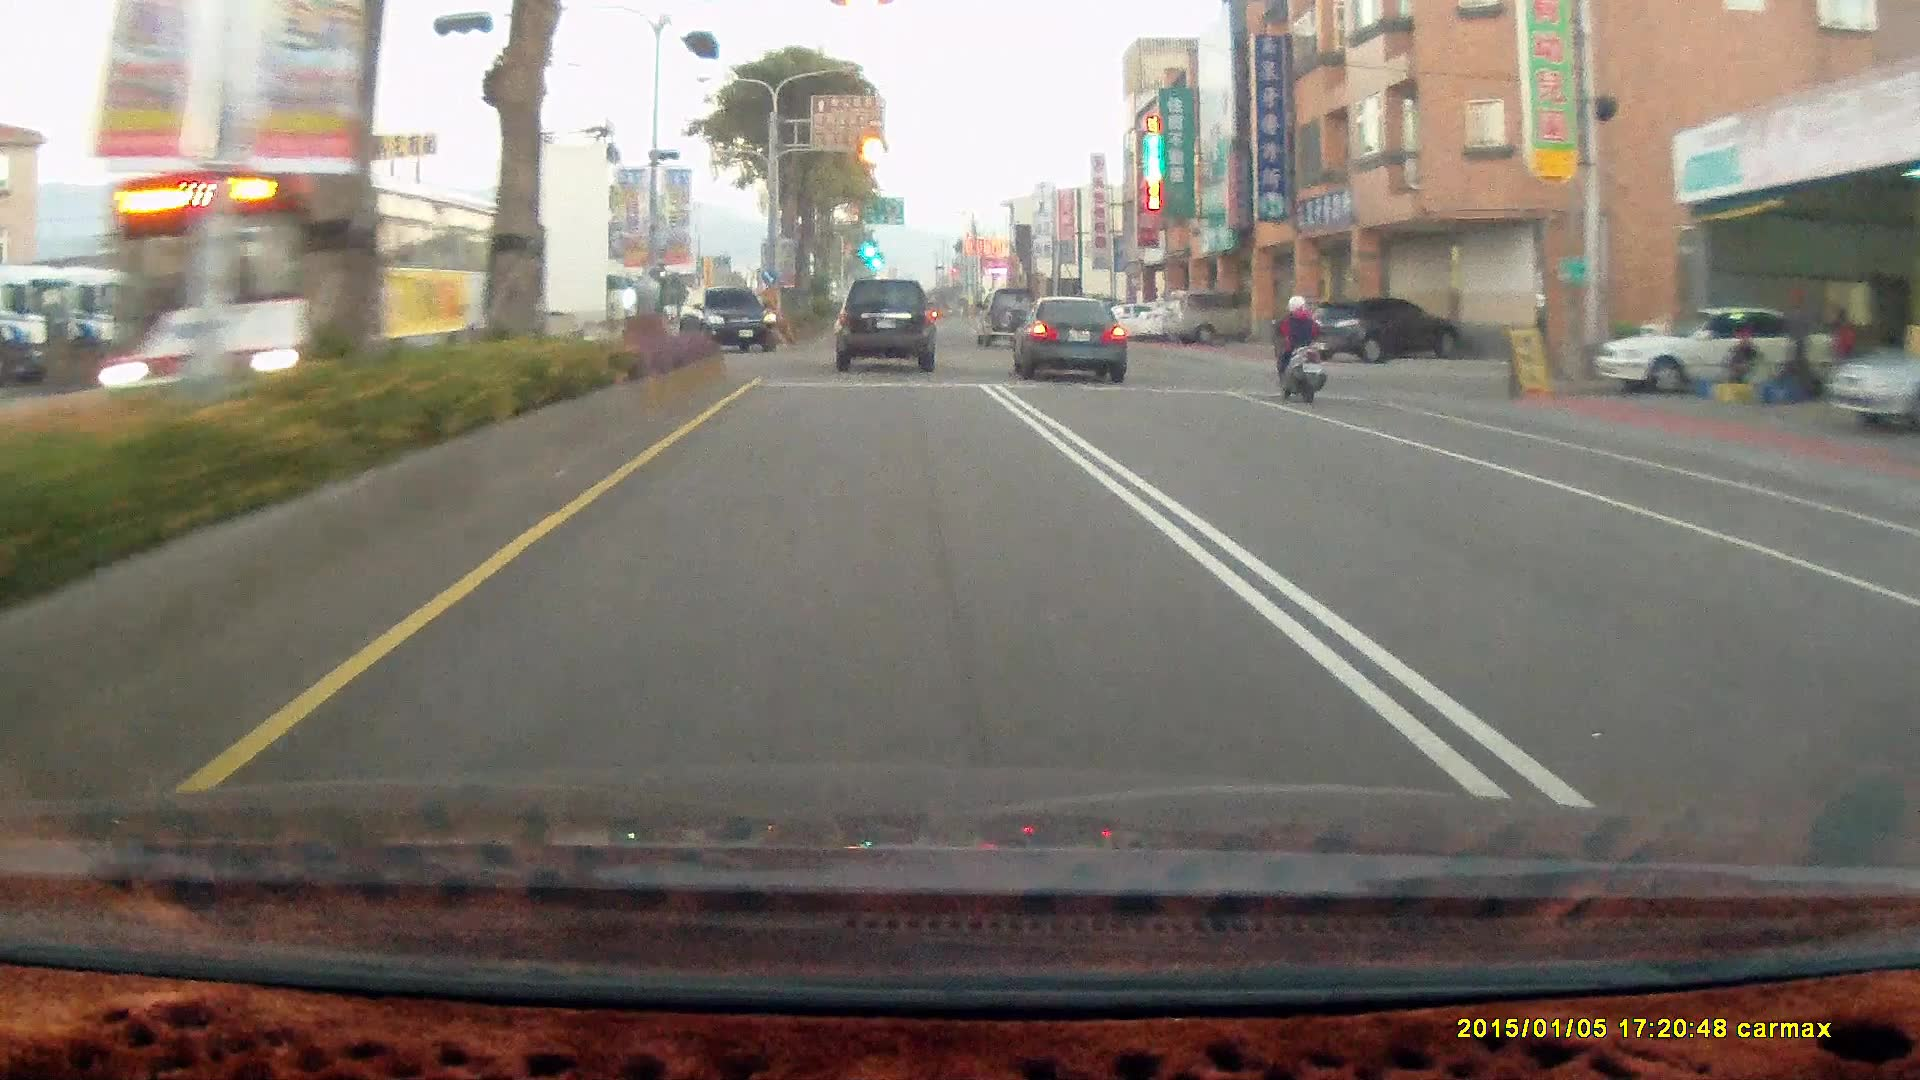pedestrian: (1787, 292, 1817, 405), (1831, 307, 1863, 408), (1729, 330, 1761, 400)
rider: (1257, 282, 1339, 416), (1268, 296, 1326, 404)
vehicle: (91, 163, 545, 419), (114, 159, 537, 409), (1594, 305, 1847, 395), (1592, 305, 1839, 396), (1011, 296, 1132, 389), (1299, 297, 1461, 363), (1298, 300, 1459, 366), (1006, 296, 1126, 383), (835, 281, 941, 375), (1823, 328, 1920, 429), (833, 278, 933, 372), (681, 287, 777, 359), (681, 286, 777, 352), (1163, 292, 1272, 345), (1161, 291, 1256, 350), (974, 286, 1040, 347)
